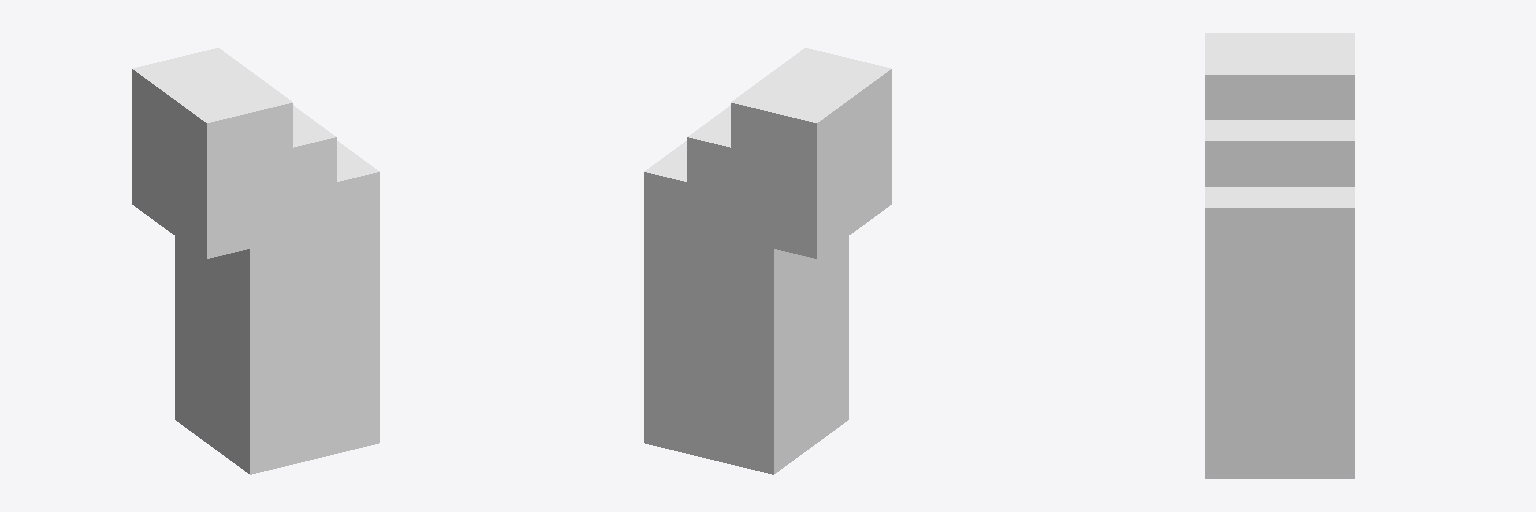
File: Hand.obj
3 views of the same model, side by side, from view 1: azimuth 30°, elevation 25°; view 2: azimuth 150°, elevation 25°; view 3: azimuth 270°, elevation 25° (orthographic).
Visible parts, largest first — view 1: object 1; view 2: object 1; view 3: object 1.
Boxes of the visible parts, x1=… form: object 1: x1=132, y1=48, x2=379, y2=474; object 1: x1=644, y1=48, x2=891, y2=474; object 1: x1=1205, y1=33, x2=1354, y2=478.
Bounding box in the file's own units: 0.4 × 0.8 × 0.3.